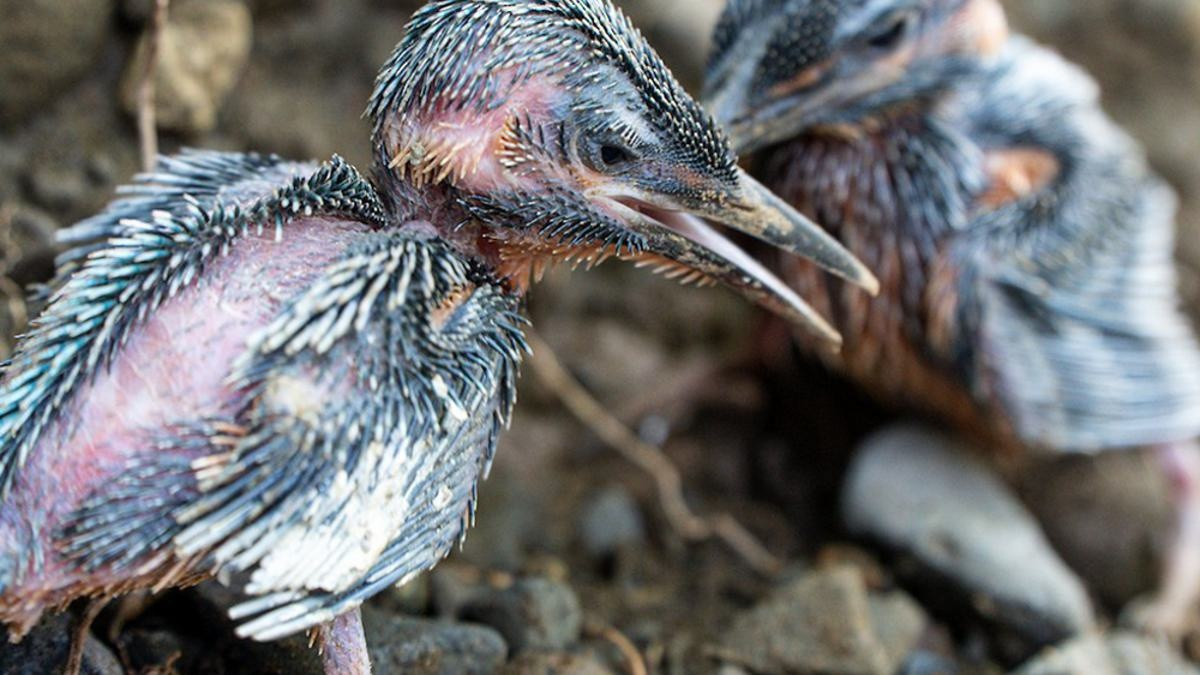kingfisher: (1, 8, 864, 675), (723, 9, 1200, 437)
